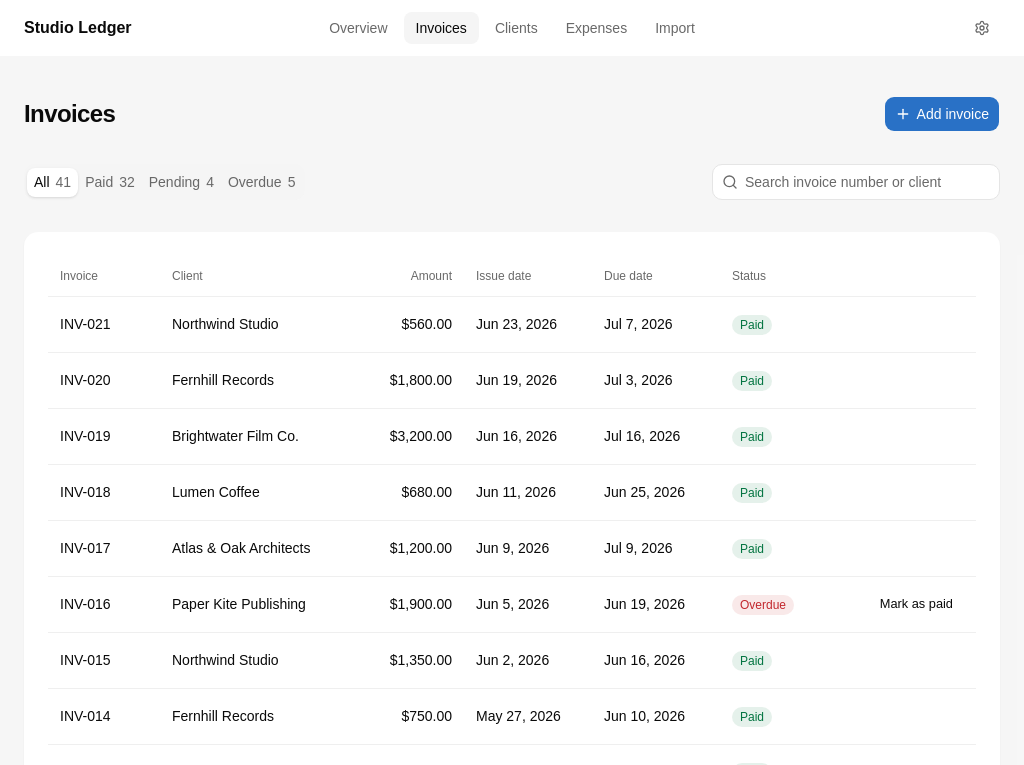
Test: Invoices › changing the status tab or the search goes back to page 1 (US-2.3)
This screenshot has width=1024, height=765.
Click the tab "Paid 32".
click(110, 182)  # box x1=78 y1=168 x2=142 y2=196
(page scrolled)
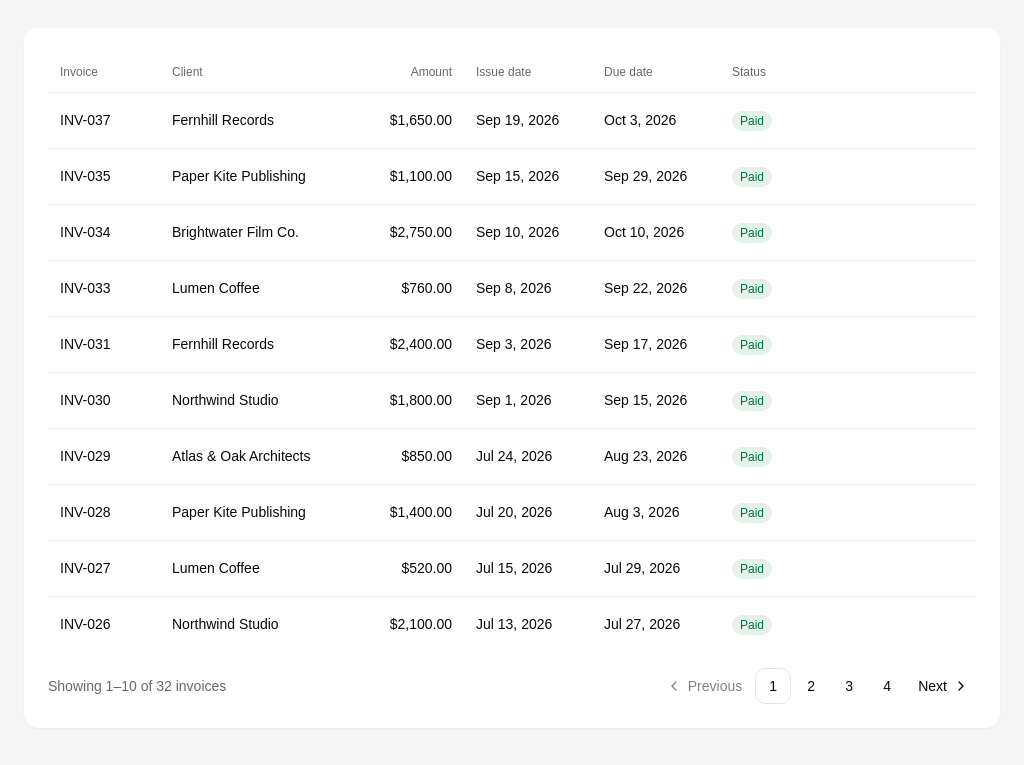
Now the text "Showing 1–10 of 32 invoices" is shown, box x1=48 y1=676 x2=226 y2=696
Click the link "2".
click(811, 686)  # box x1=807 y1=678 x2=815 y2=694
(page scrolled)
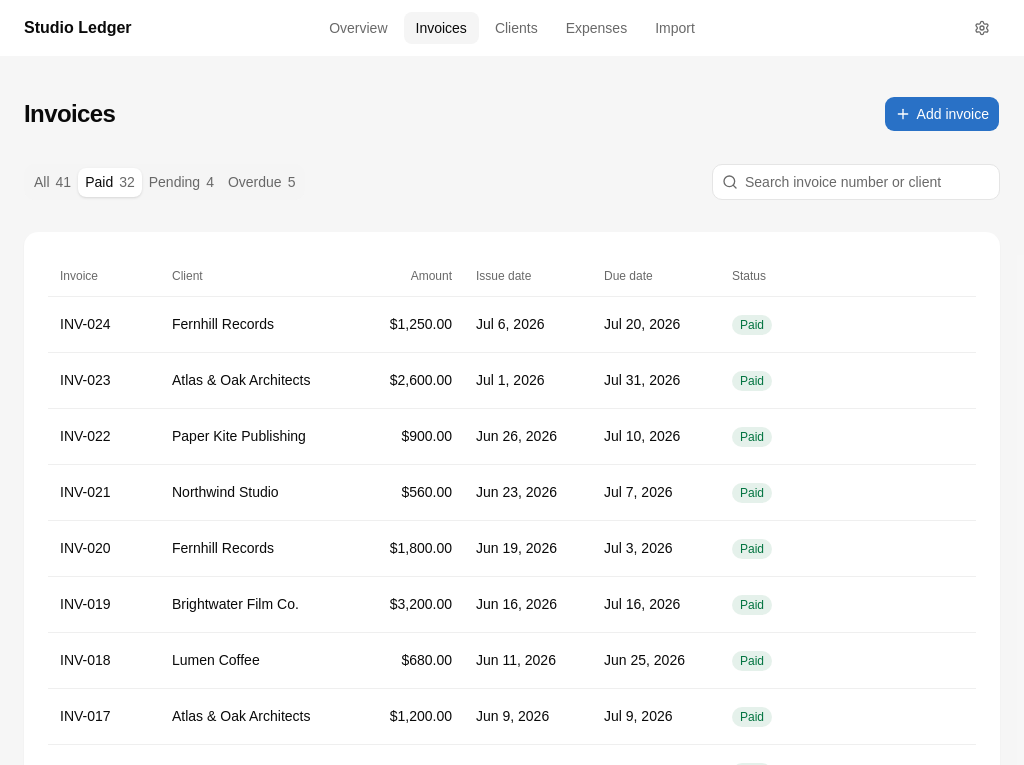
Note: Every invoice number starts with INV-0, so the search keeps all 32 and only the page changes.
Type "INV-0" into the search field named "Search invoices".
click(856, 182); type("INV-0")  # box x1=712 y1=164 x2=1000 y2=200
(page scrolled)
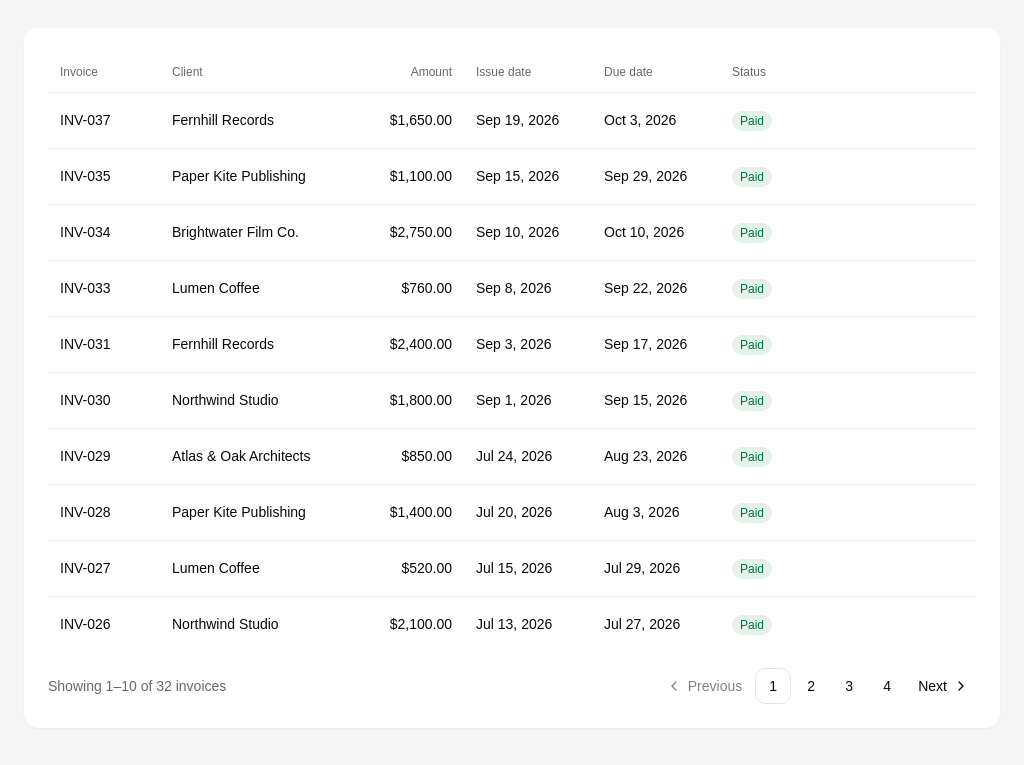
Now the text "Showing 1–10 of 32 invoices" is shown, box x1=48 y1=676 x2=226 y2=696
